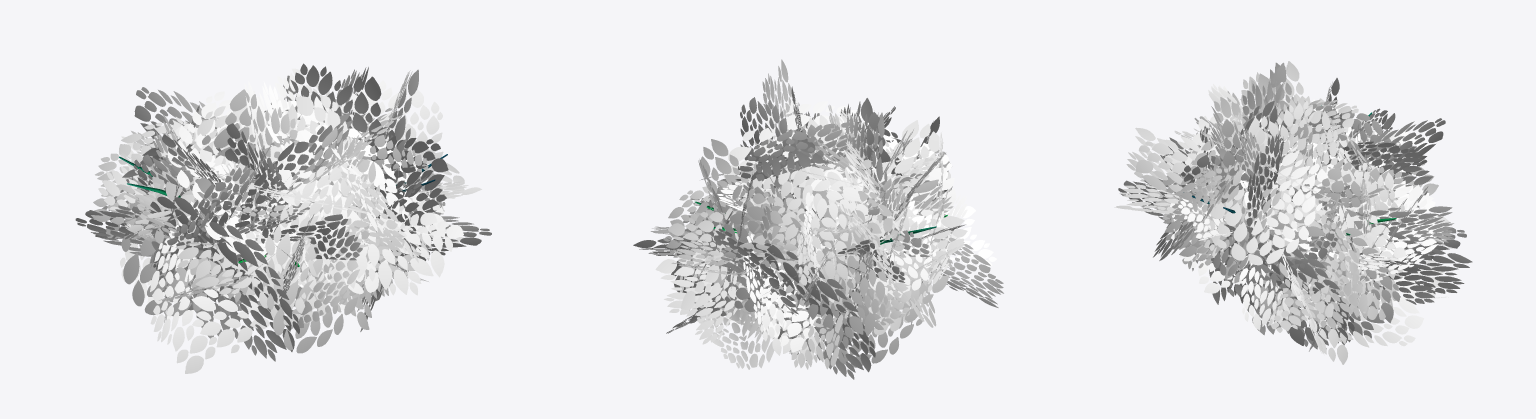
The model's file is Bush1.fbx.
The picture shows the model from 3 angles, left to right: view 1: azimuth 30°, elevation 25°; view 2: azimuth 150°, elevation 25°; view 3: azimuth 270°, elevation 25°; orthographic projection. The views are drawn at different scales.
Parts seen in each view (by area): view 1: Tree_1; view 2: Tree_1; view 3: Tree_1.
Part boxes in pixels (<box>): Tree_1: <box>75,63,491,373</box>; Tree_1: <box>633,59,1003,379</box>; Tree_1: <box>1114,61,1472,364</box>.
Size of the model in its own units: 257 by 213 by 276.
